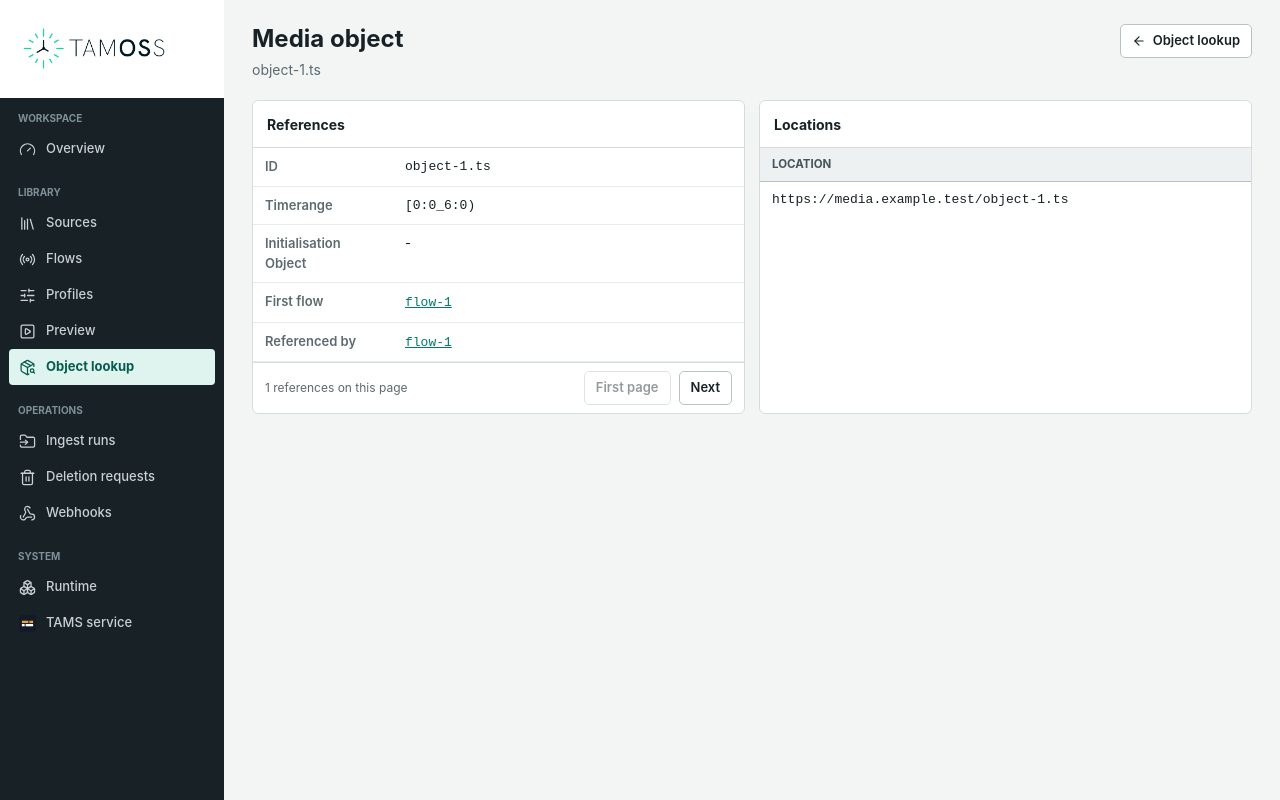
Scenario: operational routes › pages Object references without requesting presigned URLs
This screenshot has width=1280, height=800.
Click the button "Next" at (705, 388), box [678,371,732,405]
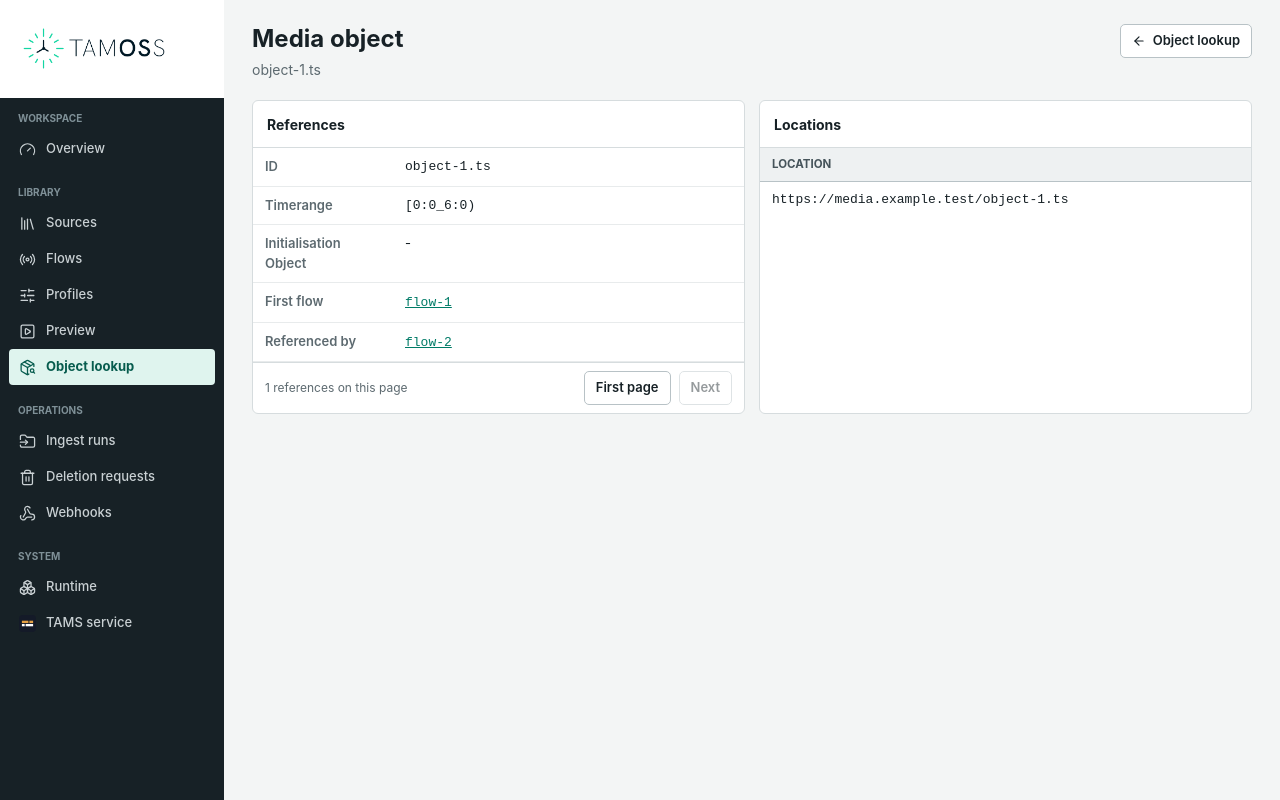
Expected: the link "flow-2" is shown, [405,334,452,350]
